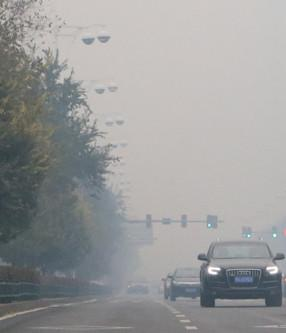car: (196, 238, 286, 308), (168, 264, 210, 301), (158, 269, 194, 300), (125, 274, 150, 294)
